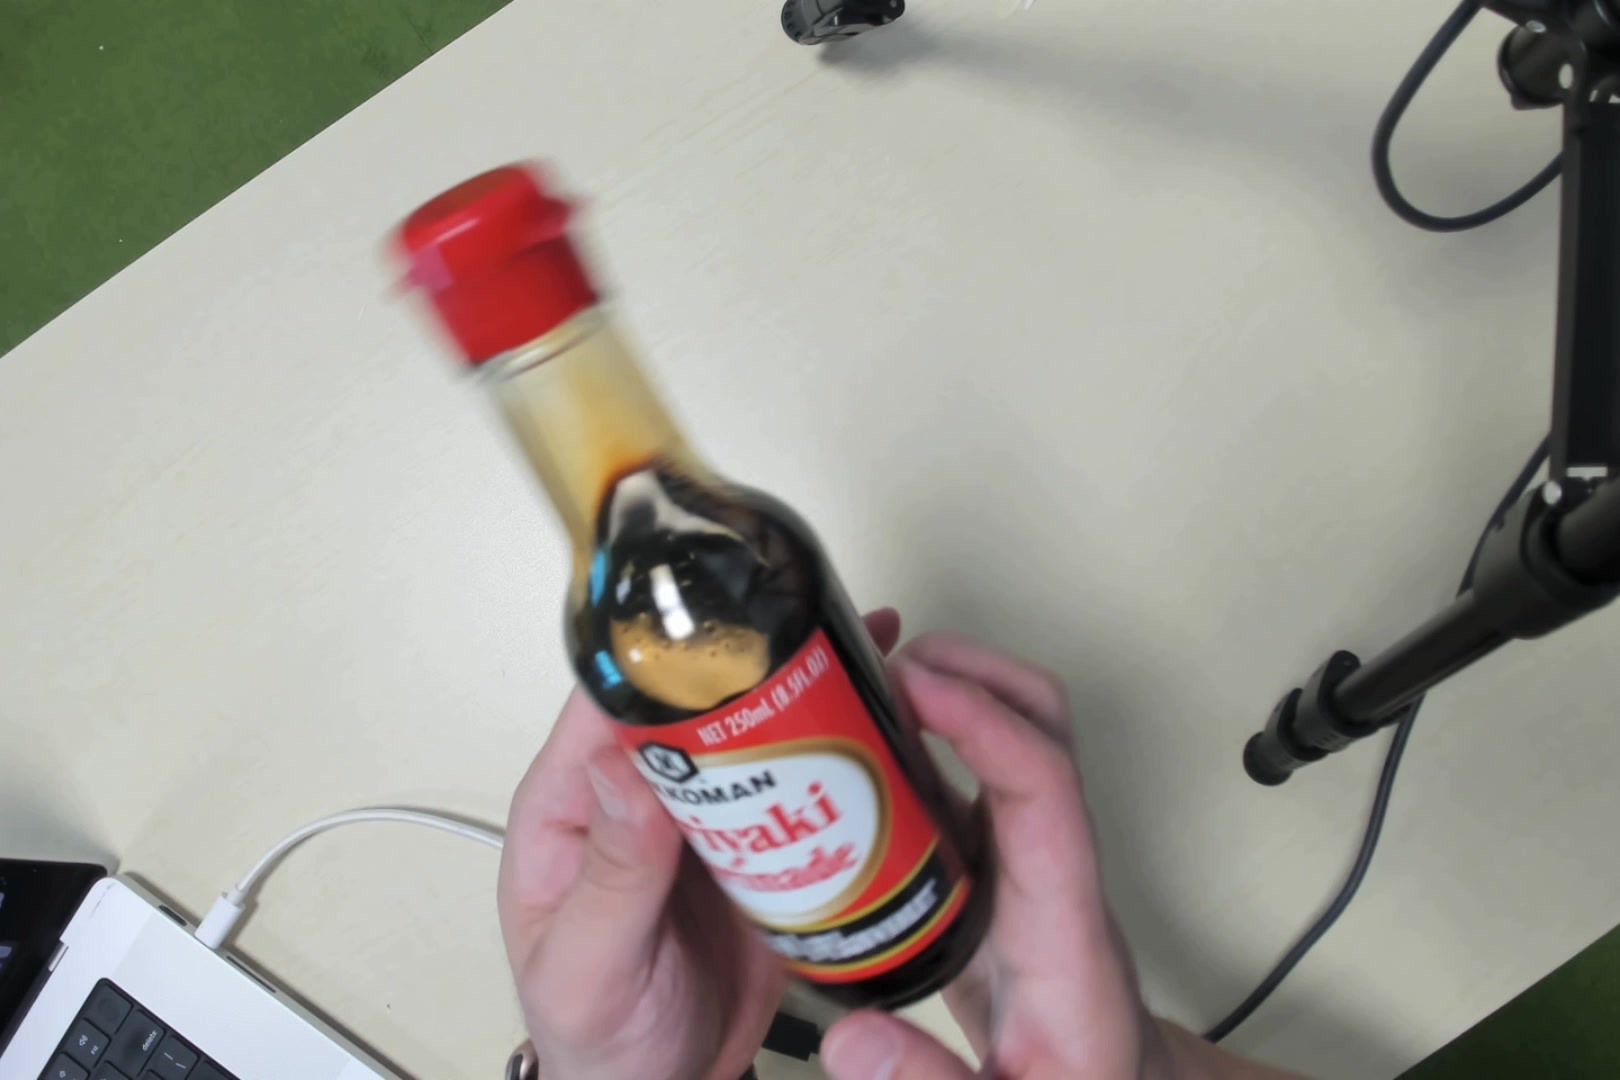OtherSauceDressingSoupbasePaste_200-299g_NonHalal_NonHealthy: (507, 202, 937, 944)
